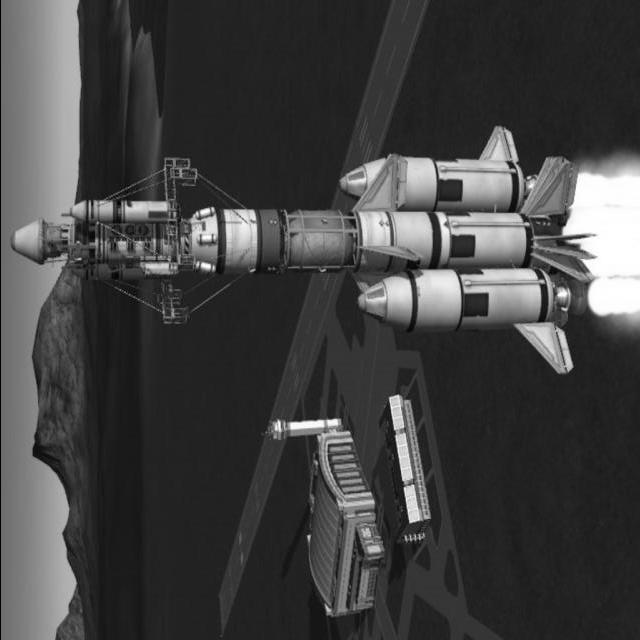missile: (345, 258, 567, 341), (335, 150, 524, 211), (59, 197, 174, 225)
